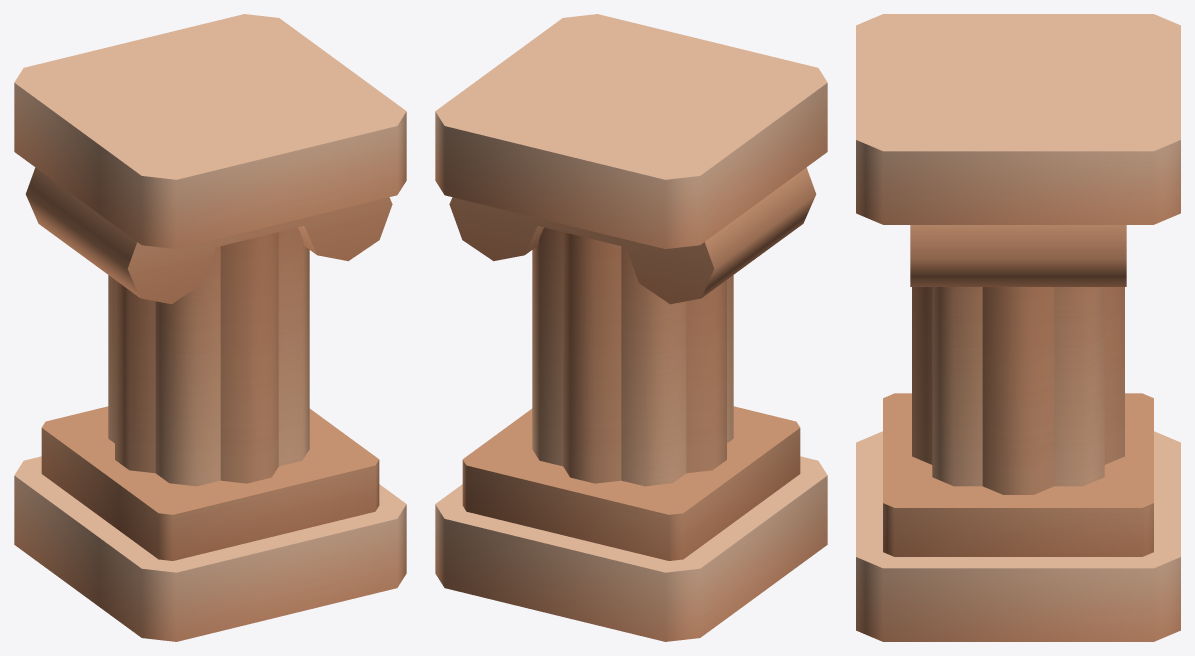
3 views of the same model, side by side, from view 1: azimuth 30°, elevation 25°; view 2: azimuth 150°, elevation 25°; view 3: azimuth 270°, elevation 25° (orthographic). The views are drawn at different scales.
Parts seen in each view (by area): view 1: column; view 2: column; view 3: column.
Part boxes in pixels (x1,y1,x2,y2): column: (14,14,406,641); column: (435,14,827,641); column: (856,14,1180,641).
Bounding box in the file's own units: 0.6031 × 1 × 0.6.
Materials: 1 (1 with a texture image).
